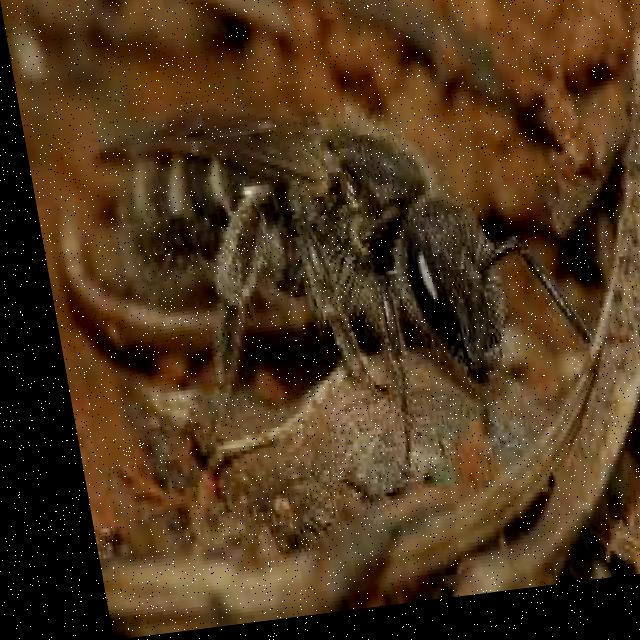Lasioglossum: (84, 54, 603, 496)
